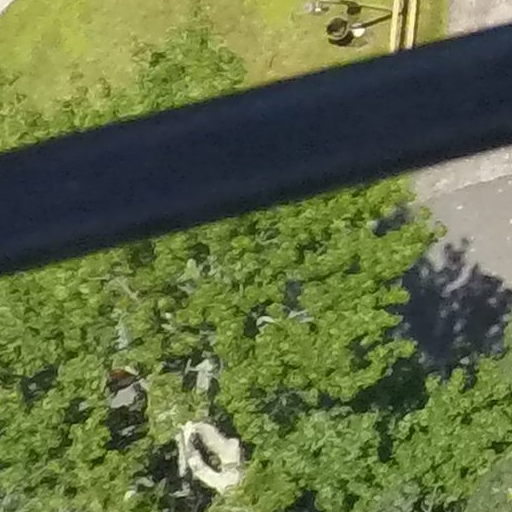container: (322, 14, 357, 45)
